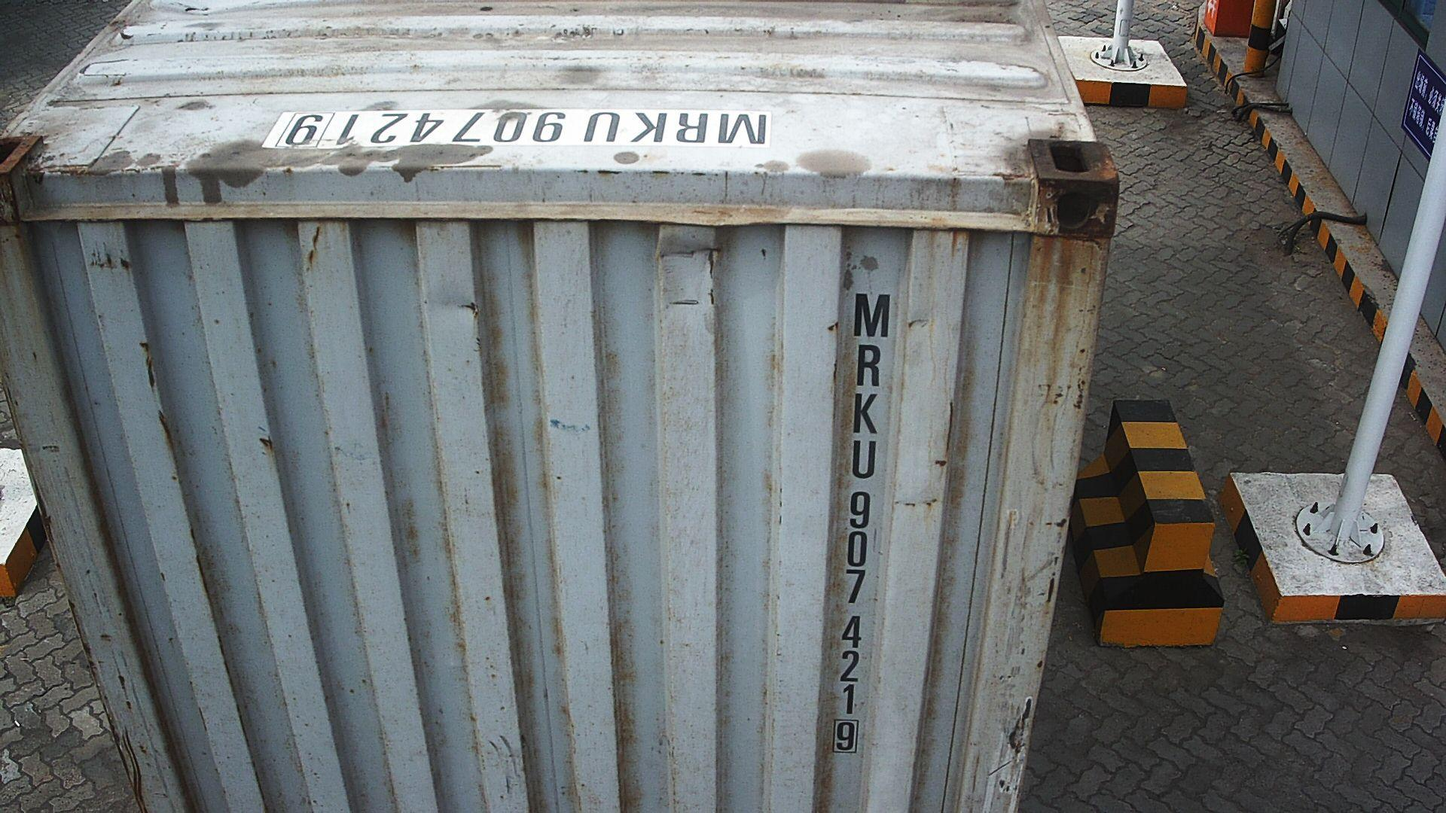container-numbers: (821, 282, 893, 760), (258, 102, 782, 154)
